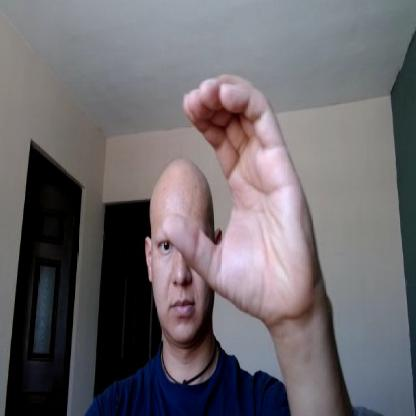C: (162, 72, 317, 323)
